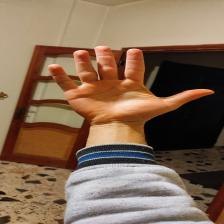five: (50, 43, 214, 123)
